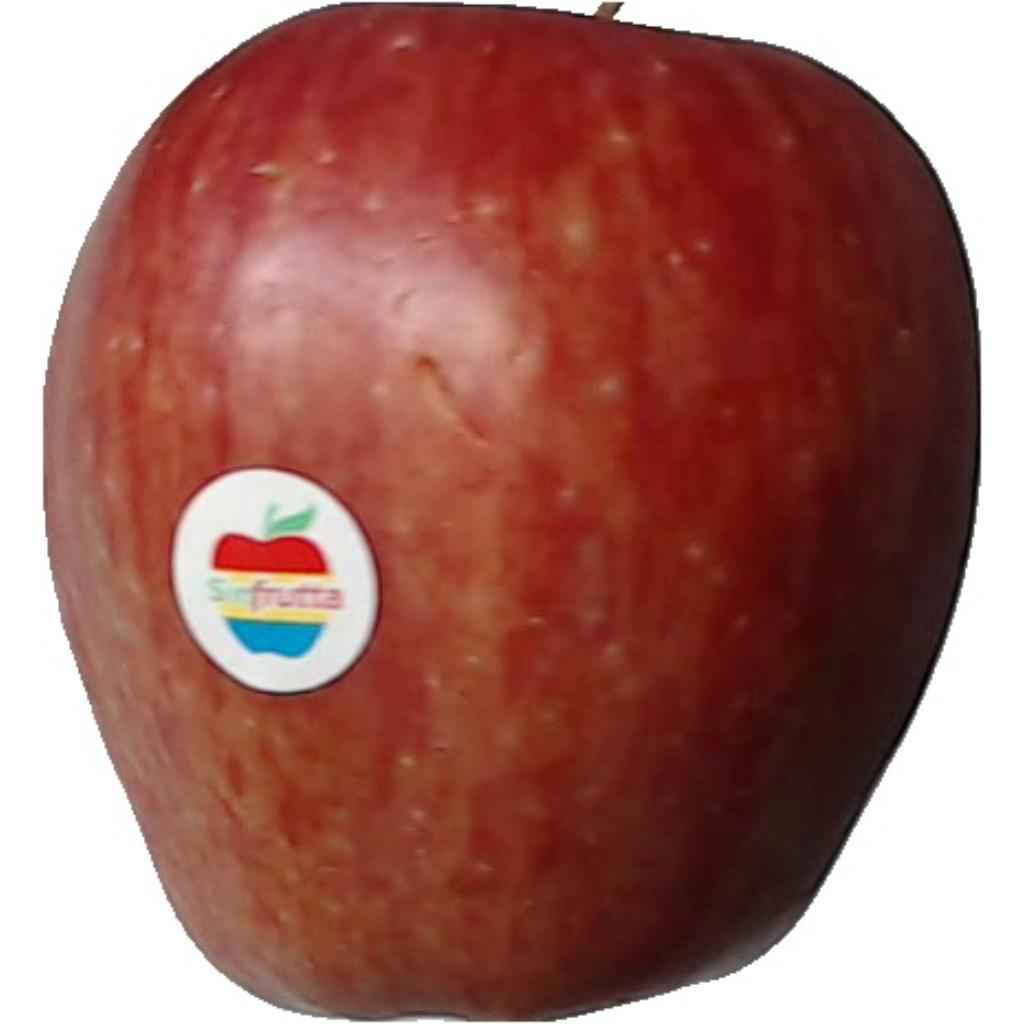apple: (41, 4, 984, 1024)
